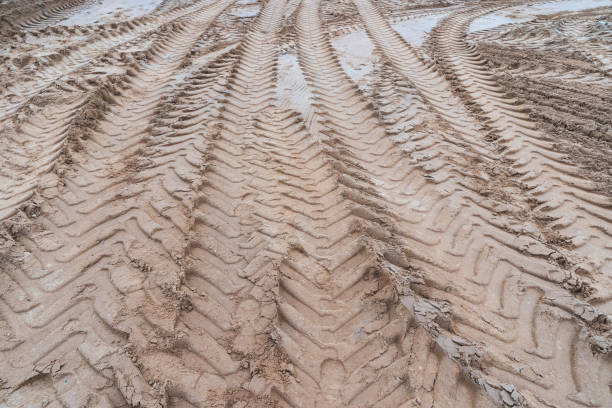vehicle_track: (0, 0, 611, 407), (0, 0, 230, 406), (432, 8, 611, 275), (296, 1, 435, 264), (405, 194, 573, 349), (0, 2, 203, 118), (478, 43, 611, 191), (0, 78, 115, 219), (19, 0, 92, 29)
